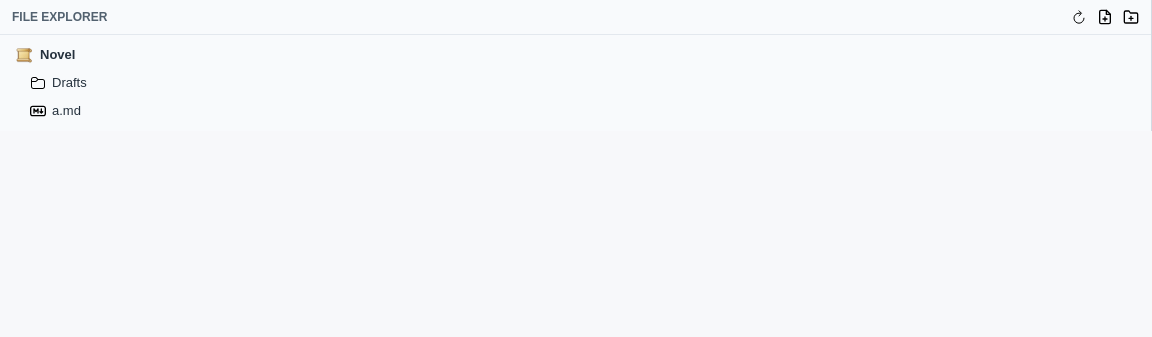
Test: FileExplorer create context menu (#355) › shows New File / New Folder on a folder row right-click
The image size is (1152, 337).
Right-click the list item "Drafts": (69, 82) [6,69,1145,97]
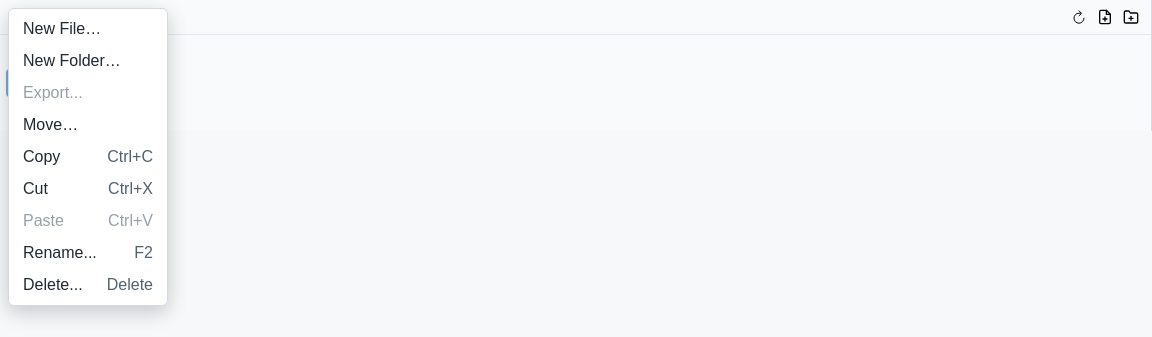
Now the menu item "New File…" is shown, box [13,13,163,45]
Now the menu item "New Folder…" is shown, box [13,45,163,77]
